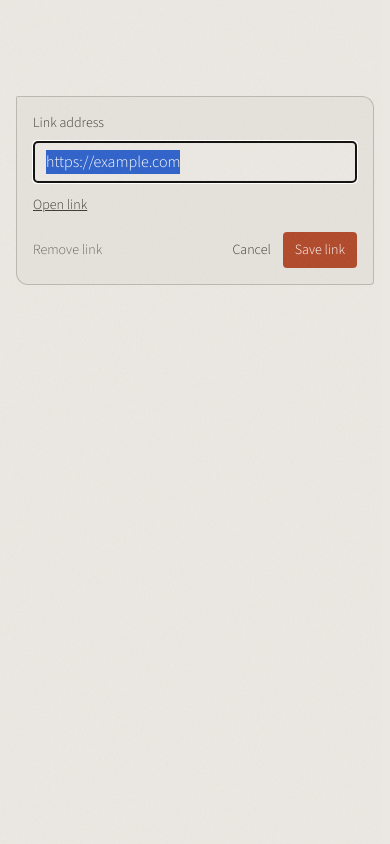
Test case: LinkPopover › offers an explicit safe link visit without making editor text clicks navigate
Type "javascript:alert(1)" into the field labelled "Link address" at x=195, y=162, box [33, 141, 357, 183]
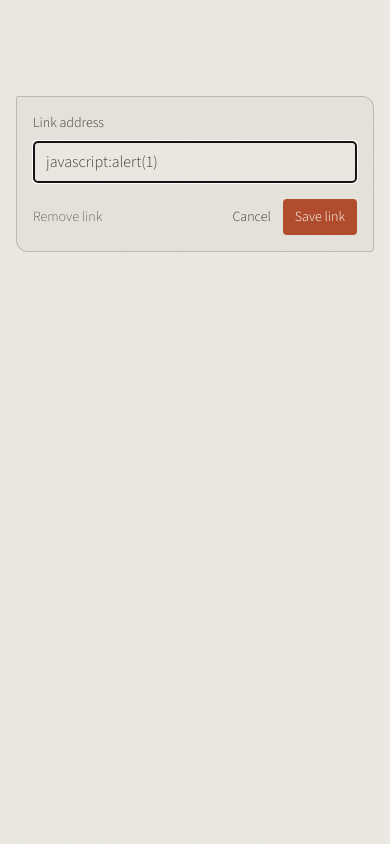
Check: the link "Open link" is gone
